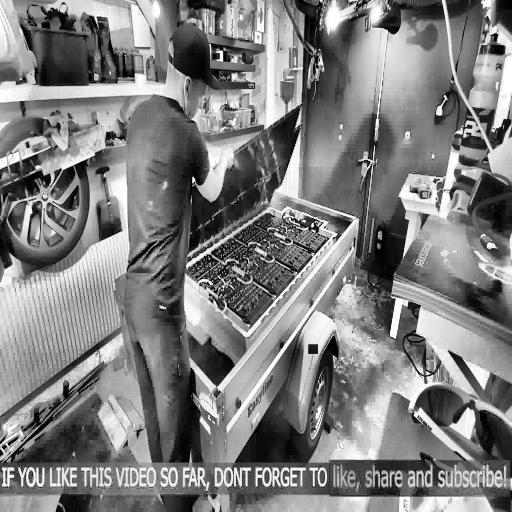b_casing: (183, 103, 302, 268)
high_volt_cable: (211, 297, 227, 313), (235, 273, 254, 286), (196, 278, 213, 292), (260, 253, 276, 264), (279, 236, 294, 247), (225, 258, 239, 266), (295, 224, 310, 231), (248, 241, 260, 249), (267, 226, 280, 233)
